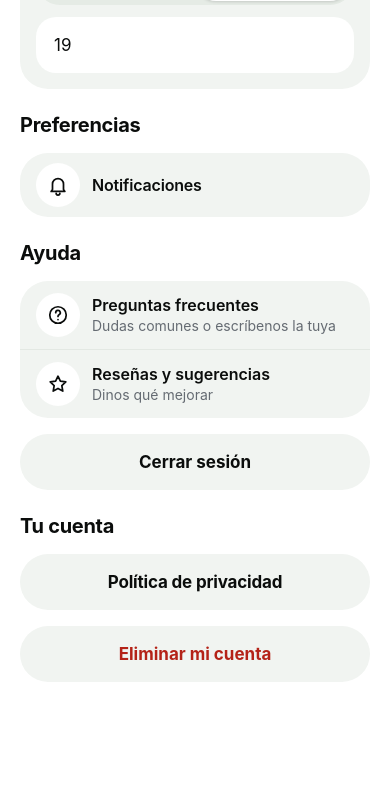
Eliminar mi cuenta › can be cancelled before anything is erased
(page scrolled)
What coordinates should you click on to do the following:
click the button "Eliminar mi cuenta"
I would click on:
 (195, 654)
Its box is 20,626 -> 370,682.
(page scrolled)
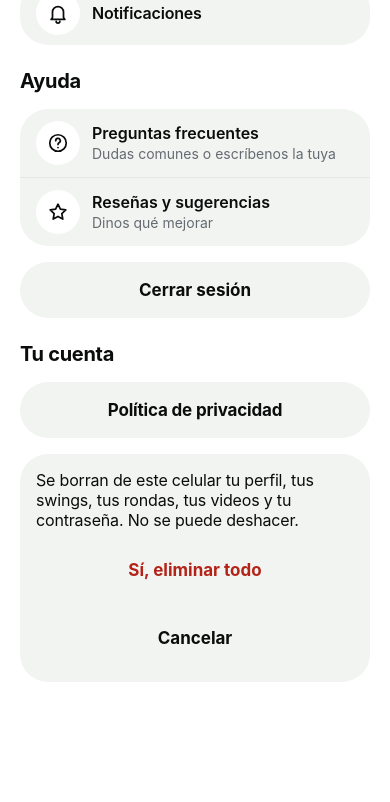
What coordinates should you click on to do the following:
click the button "Cancelar"
I would click on:
 (195, 638)
Its box is 36,610 -> 354,666.
(page scrolled)
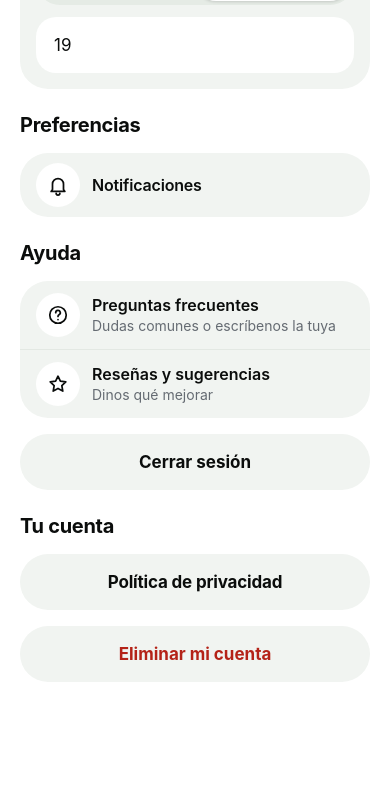
Now the button "Sí, eliminar todo" is gone
